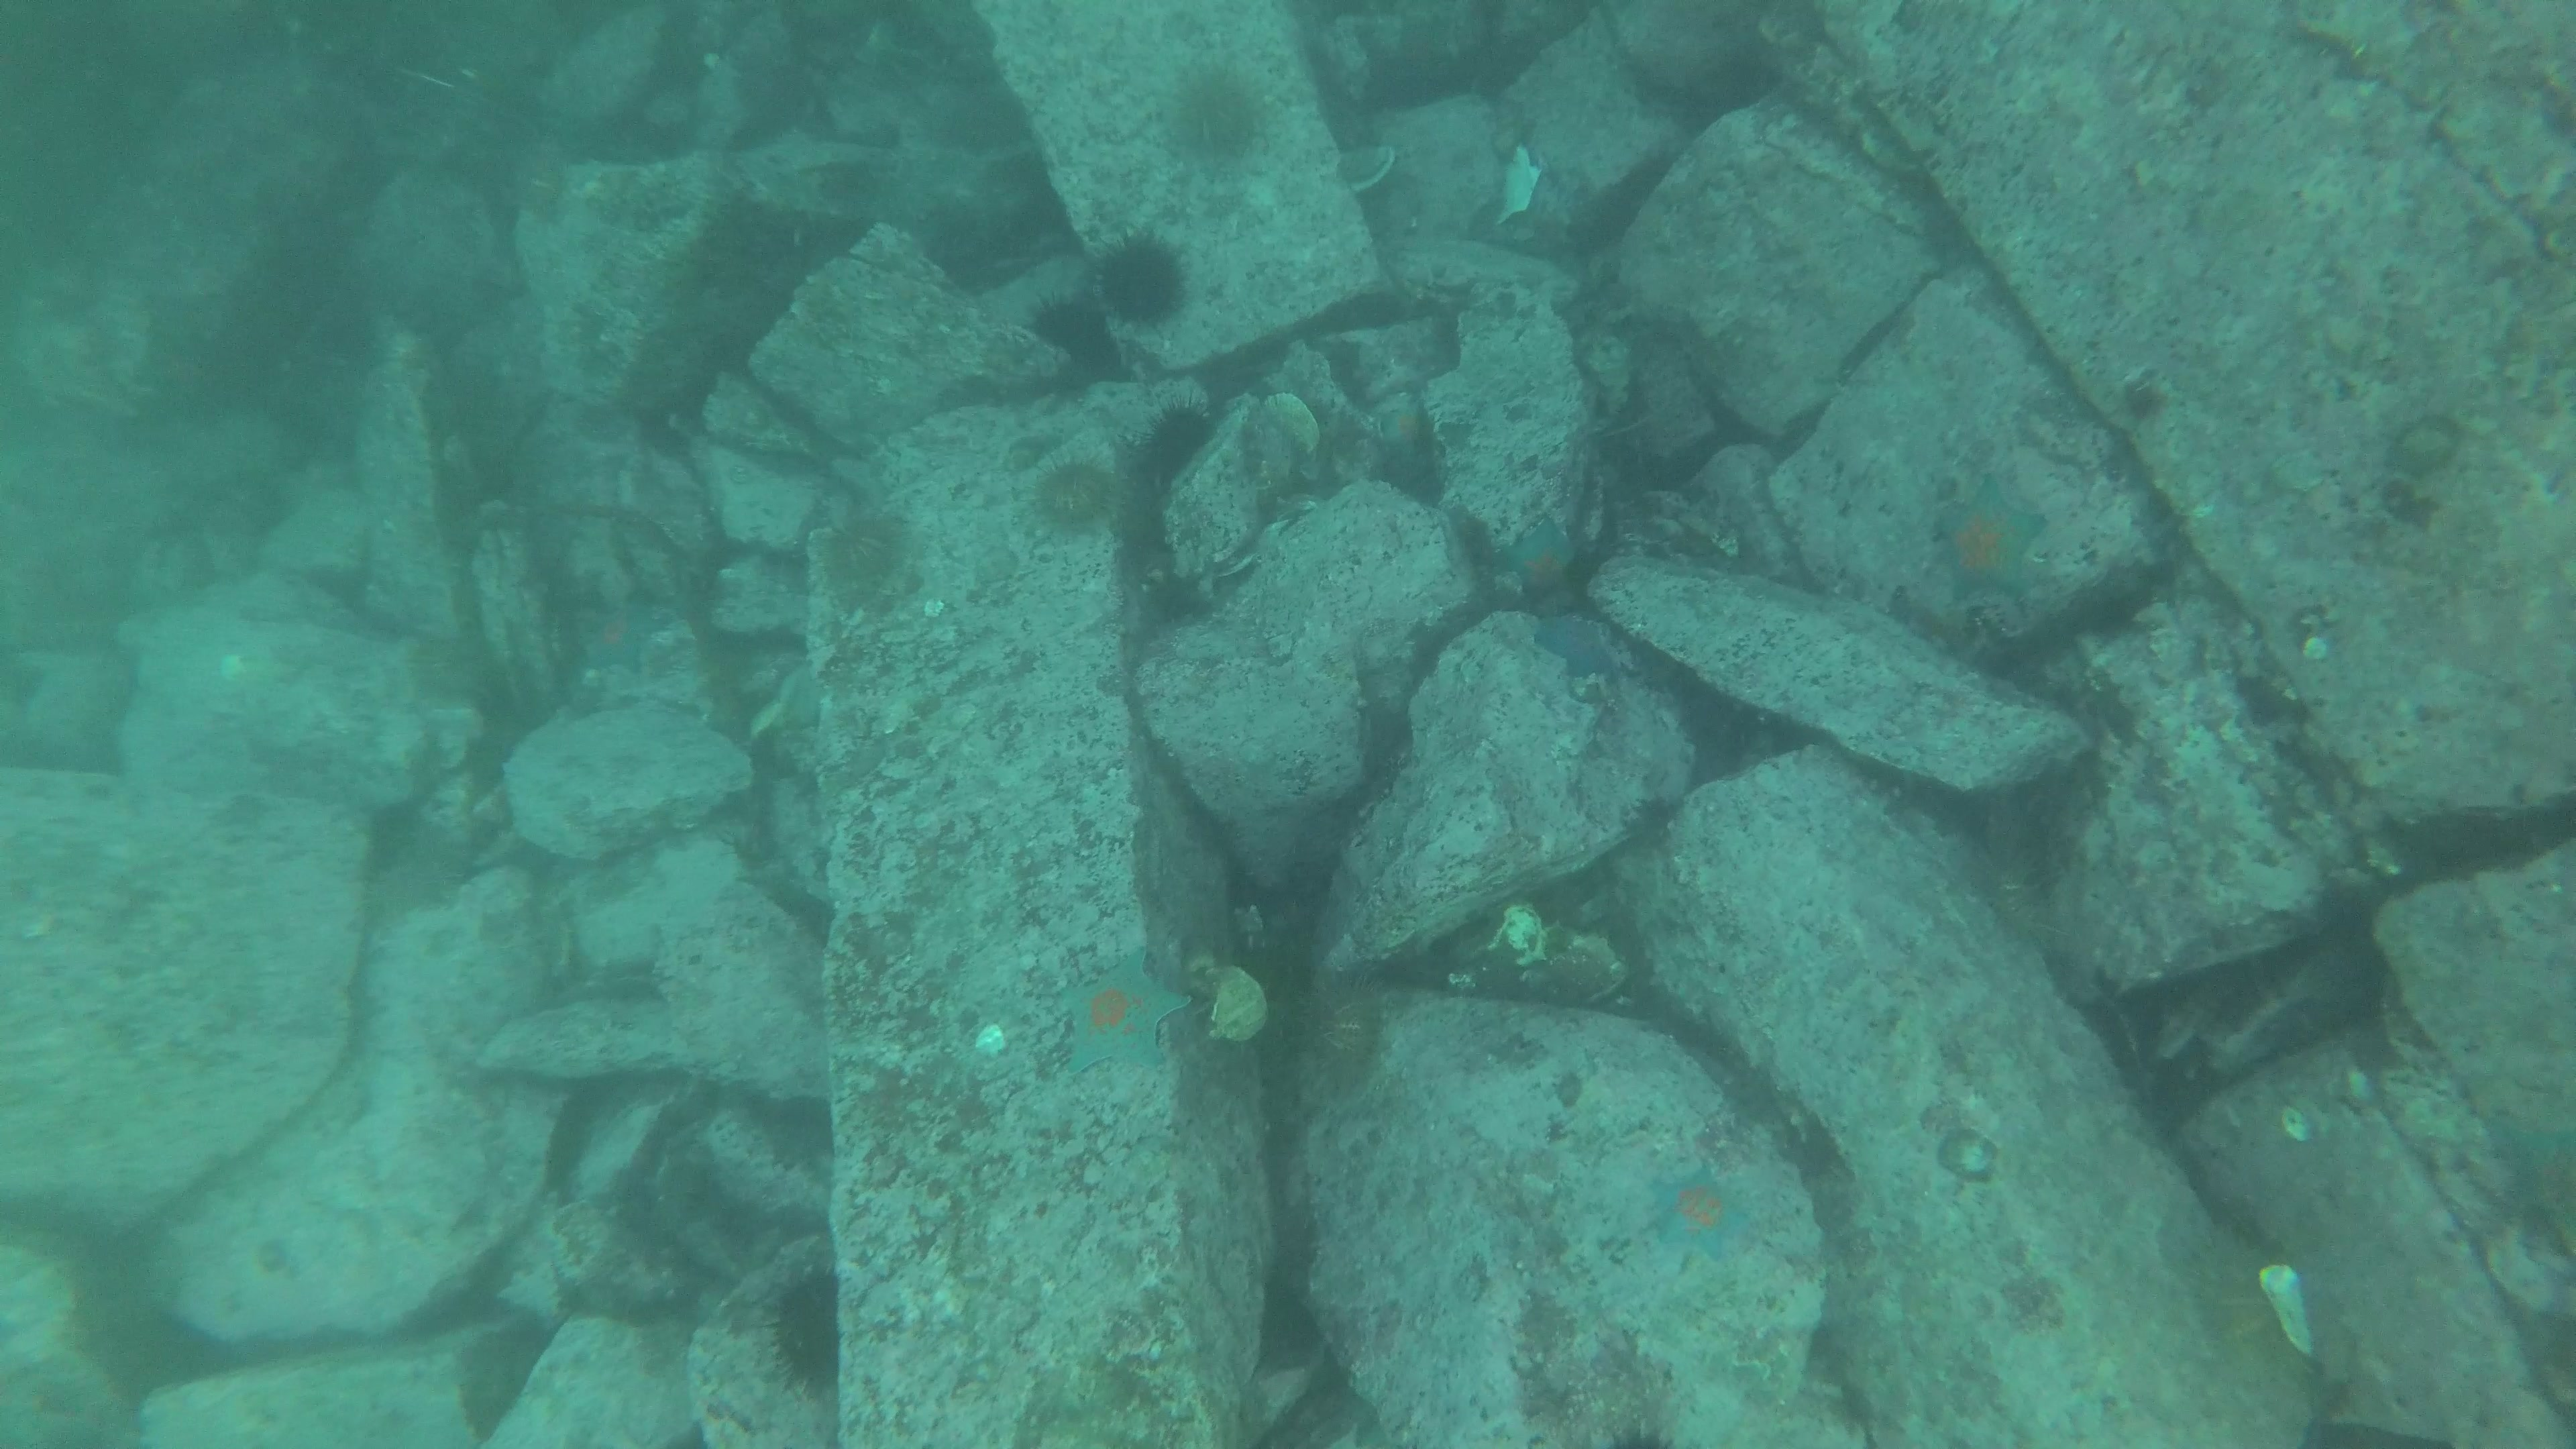echinus: (679, 193, 794, 306), (1092, 232, 1196, 331), (1171, 58, 1269, 165), (777, 1274, 847, 1384), (824, 494, 899, 596), (1028, 460, 1116, 529)
scallop: (1198, 966, 1276, 1053)
starfish: (1046, 968, 1191, 1083), (1932, 487, 2065, 609), (1642, 1150, 1759, 1265)
